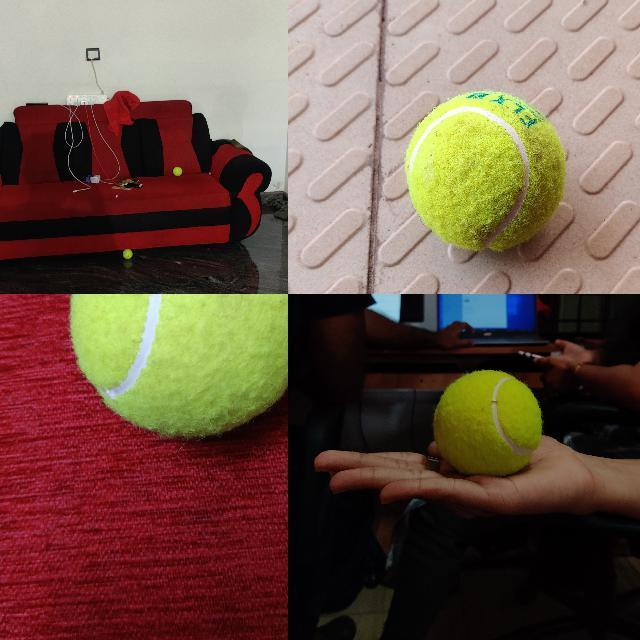tennis-ball: (68, 294, 287, 439), (405, 92, 565, 251), (433, 370, 541, 473), (122, 248, 132, 258), (173, 167, 182, 176)
